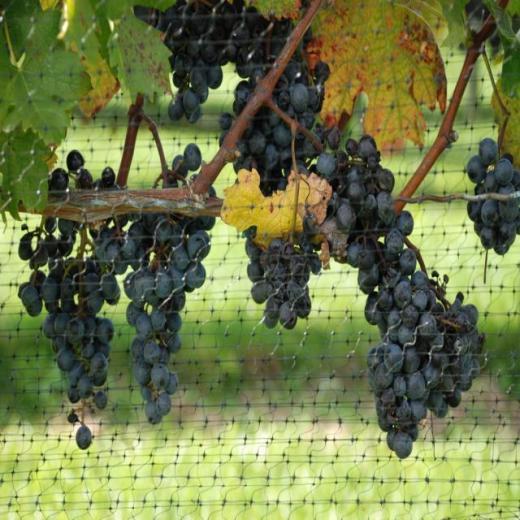Orange: (147, 0, 488, 461), (18, 148, 218, 421), (342, 142, 480, 452), (466, 139, 520, 253), (76, 424, 92, 450)
